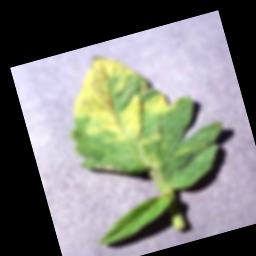Leaf_Mold: (59, 38, 184, 161)
